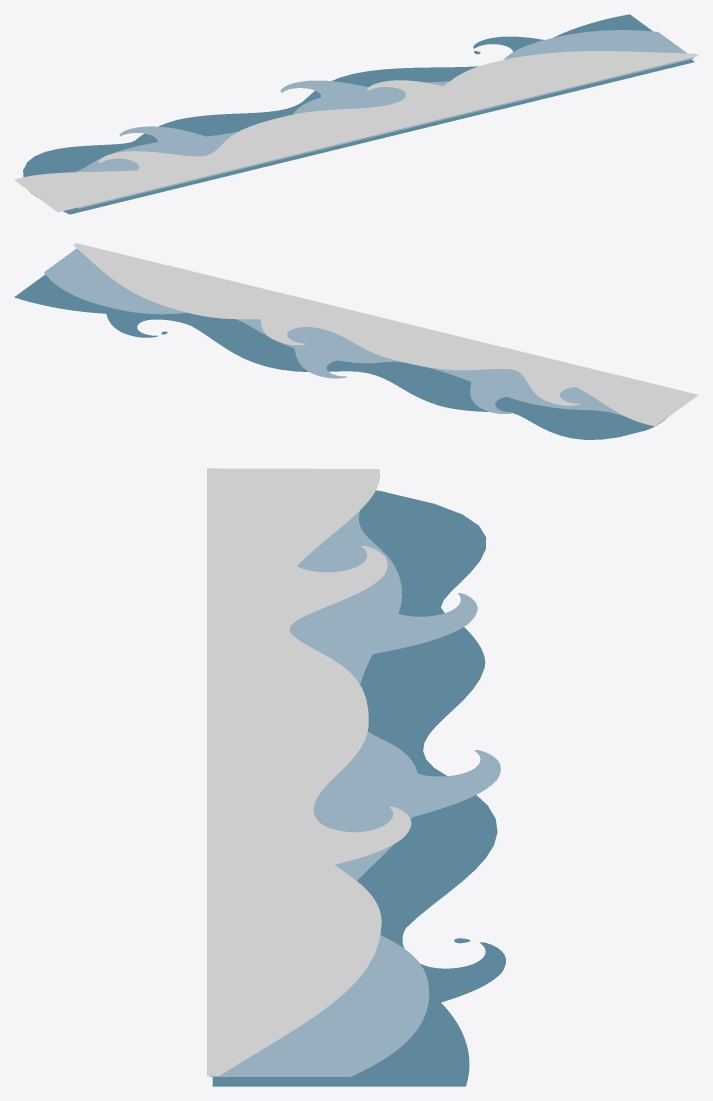
Rendered from Mar.fbx.
3 renders of one model, top to bottom at view 1: azimuth 30°, elevation 25°; view 2: azimuth 150°, elevation 25°; view 3: azimuth 270°, elevation 25°, orthographic. The views are drawn at different scales.
Visible parts, largest first — view 1: Wave; view 2: Wave; view 3: Wave.
Boxes of the visible parts, x1,y1,x2,y2 form: Wave: [14, 14, 698, 214]; Wave: [14, 243, 698, 439]; Wave: [207, 468, 505, 1086].
Size of the model in its own units: 9.34 by 0.0911 by 1.94.
